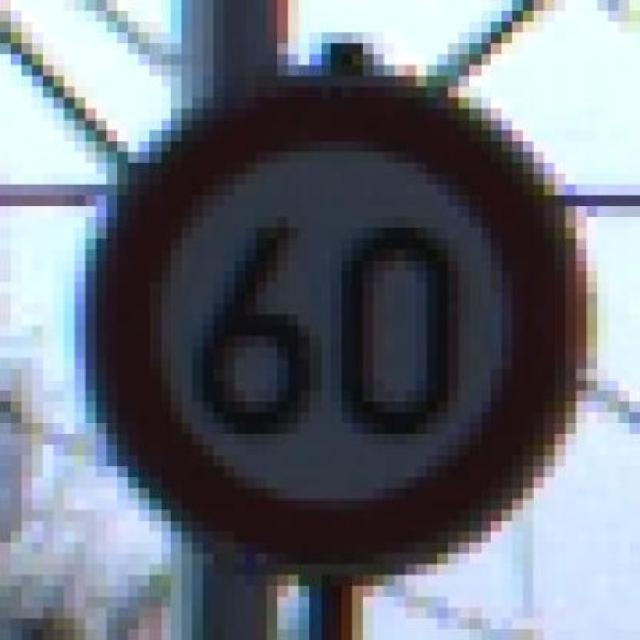forb_speed_over_60: (107, 84, 570, 562)
